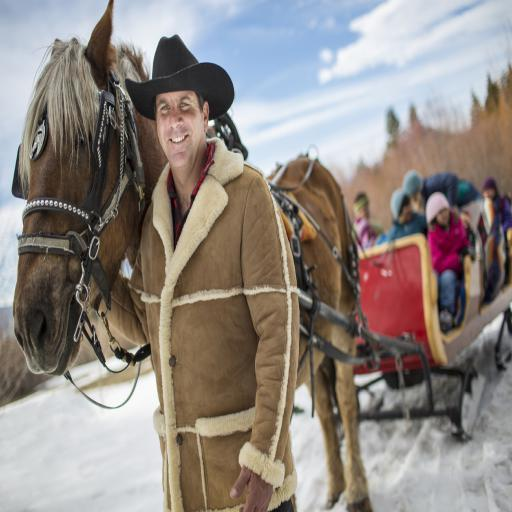horse: (14, 0, 373, 512)
